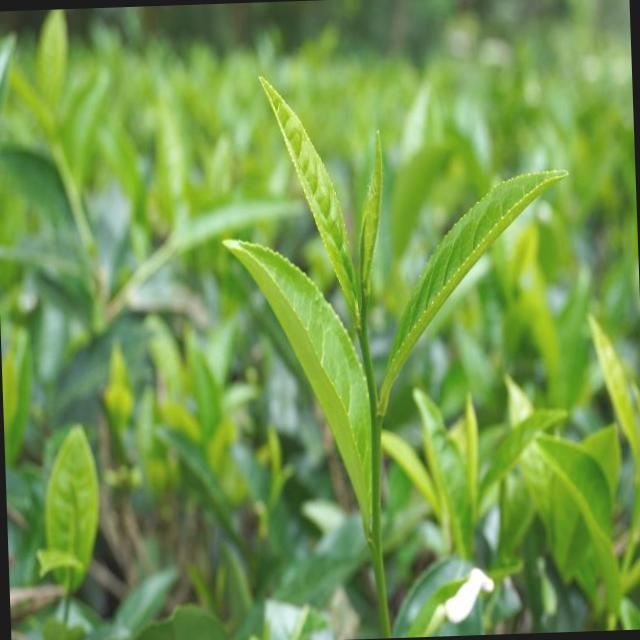Stem: (357, 324, 368, 339)
